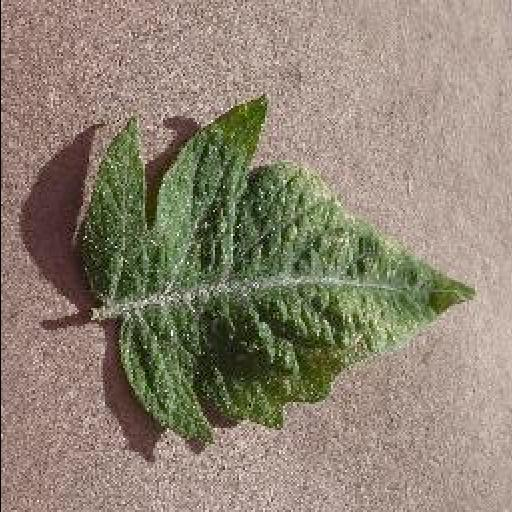disease_tomato: (76, 92, 478, 454)
